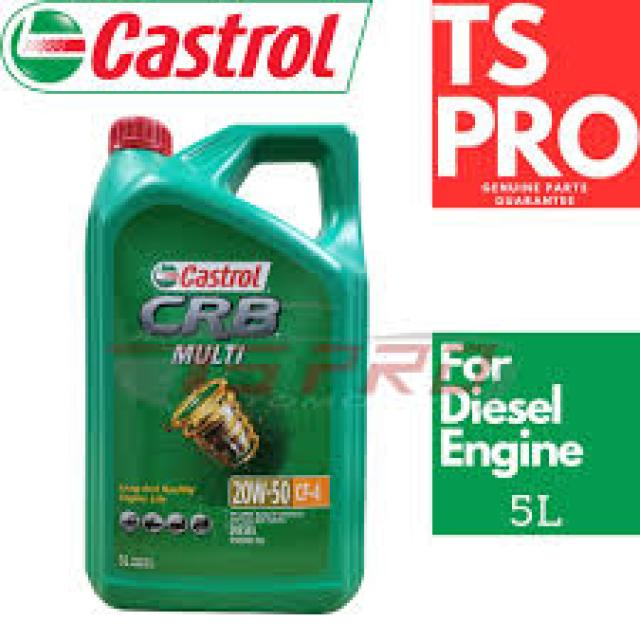motor_oil: (86, 117, 369, 618)
